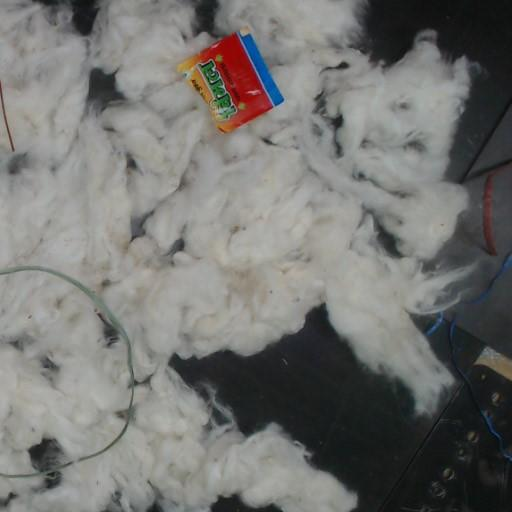conveyor belt: (175, 308, 511, 511), (363, 0, 511, 294), (447, 268, 511, 370), (472, 368, 511, 445), (88, 70, 119, 110), (211, 497, 277, 511), (73, 0, 96, 32), (73, 0, 95, 31), (194, 0, 215, 31)
cotton: (0, 0, 475, 511)
packet: (178, 33, 283, 132)
thread: (0, 265, 137, 477), (448, 315, 511, 462), (472, 158, 511, 256), (472, 252, 511, 302), (0, 84, 14, 151), (425, 311, 447, 335)
